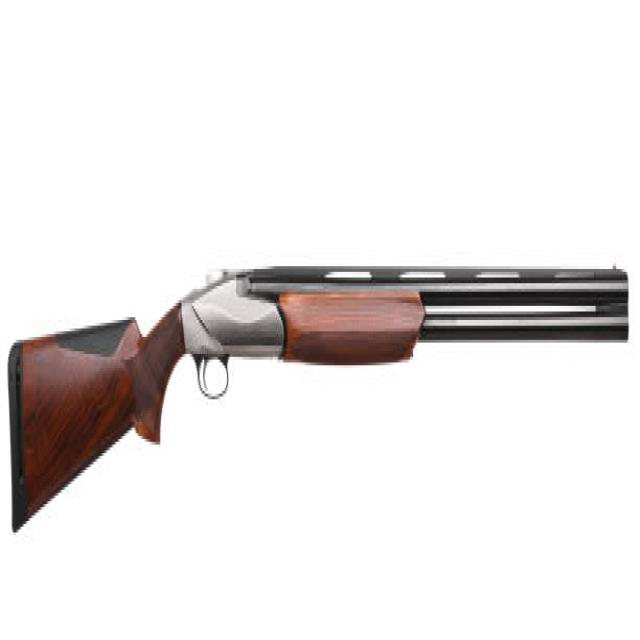rifle: (1, 252, 632, 545)
